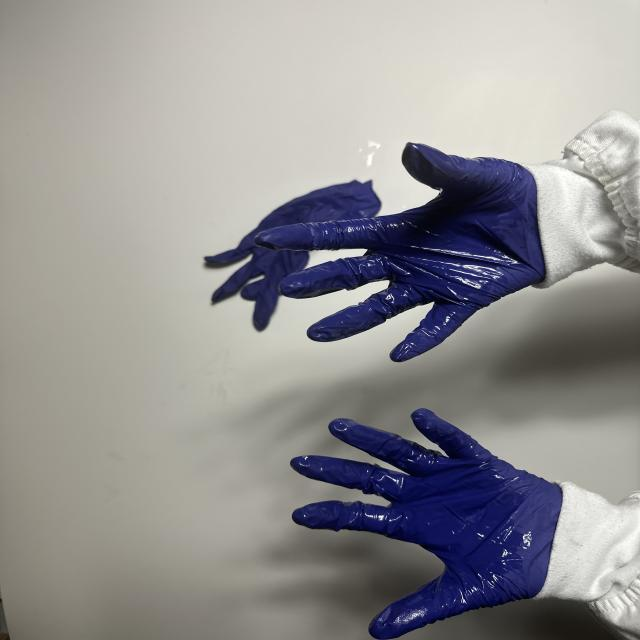gloves_contaminated: (256, 144, 546, 362), (292, 409, 560, 639)
